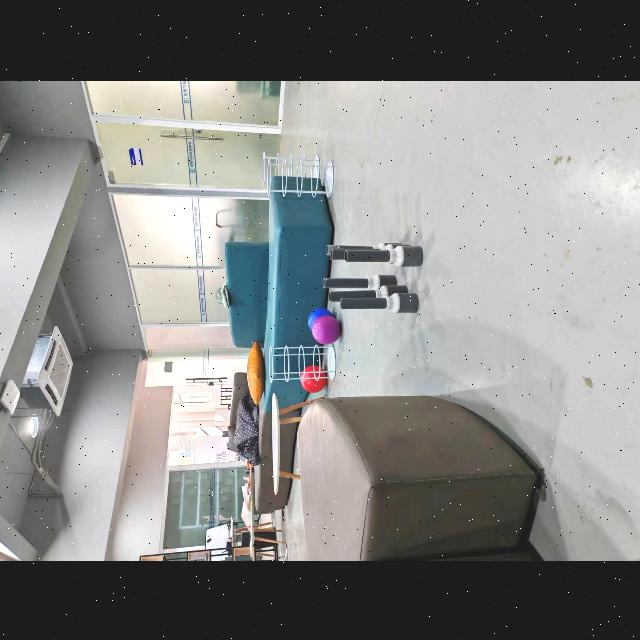P: (312, 315, 342, 343), (308, 307, 334, 328)
R: (300, 365, 327, 391)
S: (266, 159, 336, 197), (269, 343, 335, 381)
